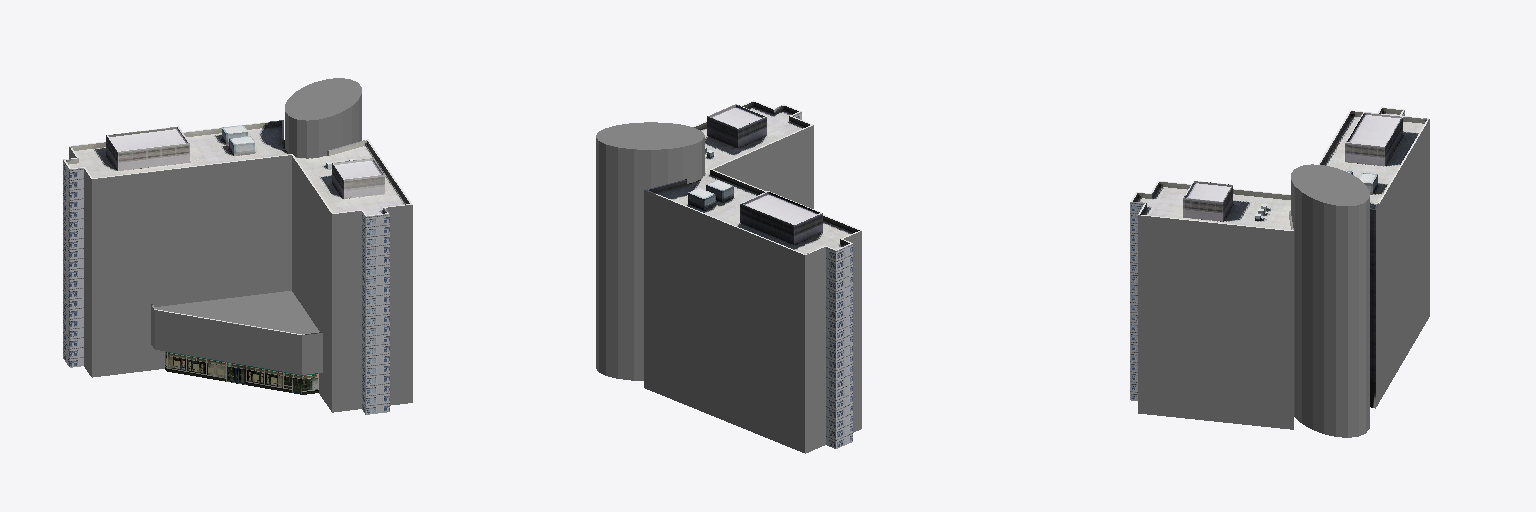
3 renders of one model, left to right at view 1: azimuth 30°, elevation 25°; view 2: azimuth 150°, elevation 25°; view 3: azimuth 270°, elevation 25°, orthographic.
Visible parts, largest first — view 1: JZ_JX_06; view 2: JZ_JX_06; view 3: JZ_JX_06.
Part boxes in pixels (x1,y1,x2,y2): JZ_JX_06: (63, 78, 412, 414); JZ_JX_06: (596, 100, 861, 453); JZ_JX_06: (1130, 107, 1429, 437).
Size of the model in its own units: 8592 by 7000 by 8201.
5 materials, 3 textured.